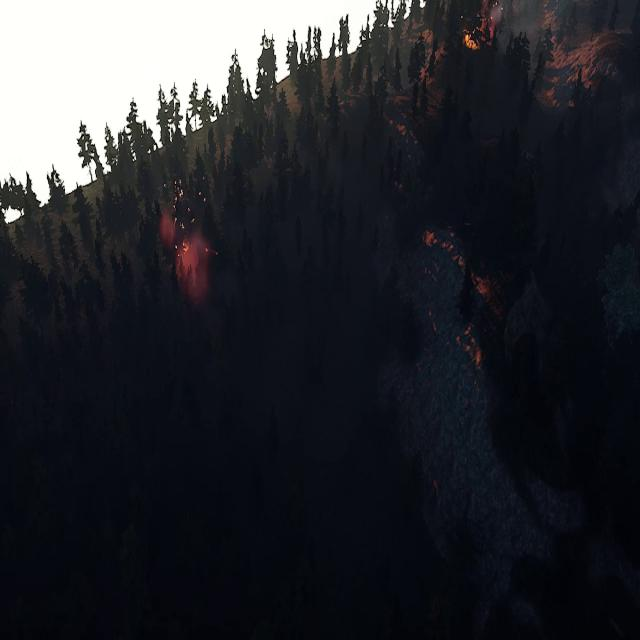fire: (463, 10, 500, 50)
smoke: (157, 198, 210, 308)
